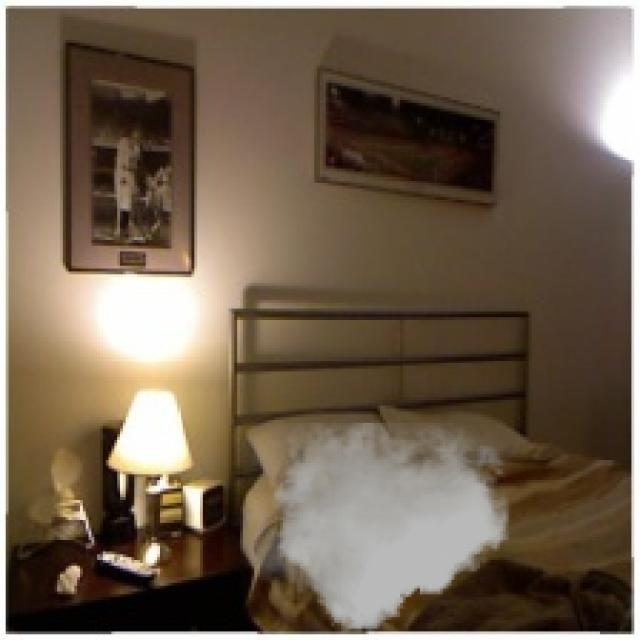smoke: (243, 423, 514, 631)
